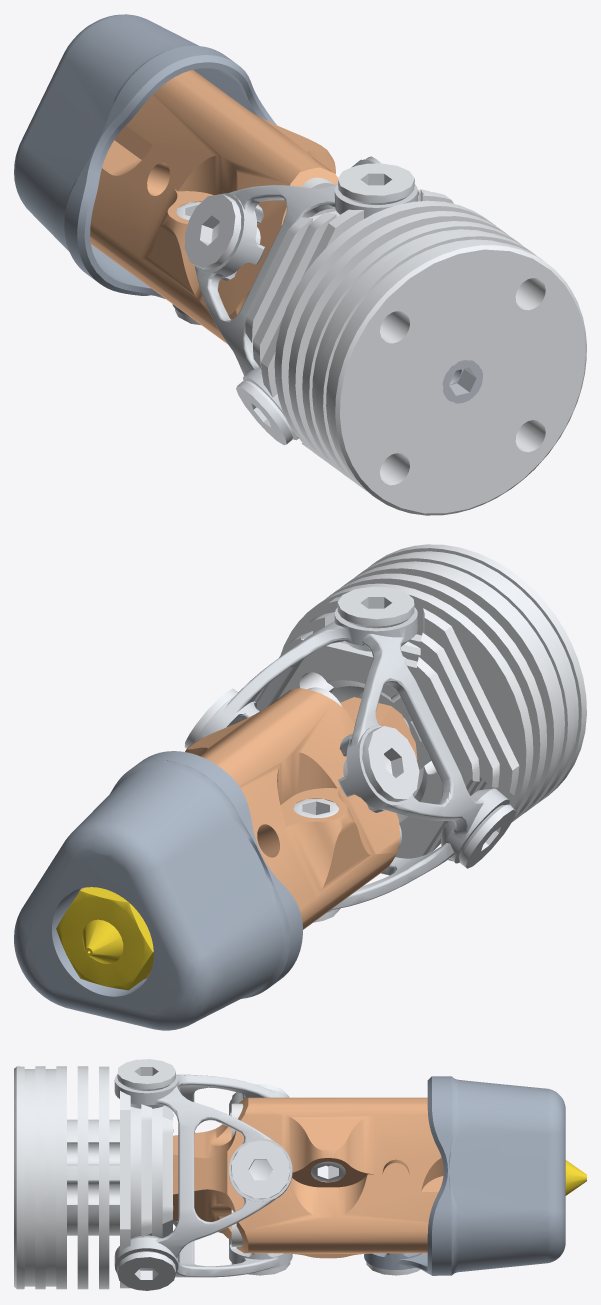
The picture shows the model from 3 angles, top to bottom: view 1: azimuth 30°, elevation 25°; view 2: azimuth 150°, elevation 25°; view 3: azimuth 270°, elevation 25°; orthographic projection. The views are drawn at different scales.
Parts seen in each view (by area): view 1: heatsink, cucrzr_hotblock, ti_shield_bucket, slm_ti_crown, screw_3, screw_2, screw_0, ti_heatbreak; view 2: ti_shield_bucket, heatsink, cucrzr_hotblock, slm_ti_crown, nozzle, screw_3, screw_2, screw_0, screw_8, screw_5; view 3: cucrzr_hotblock, heatsink, ti_shield_bucket, slm_ti_crown, screw_5, screw_4, screw_2, screw_7, nozzle.
Part boxes in pixels (x1,y1,x2,y2): heatsink: (245, 189, 586, 515); cucrzr_hotblock: (90, 70, 337, 344); ti_shield_bucket: (14, 14, 276, 315); slm_ti_crown: (194, 159, 417, 440); screw_3: (184, 194, 260, 269); screw_2: (338, 163, 414, 204); screw_0: (236, 381, 293, 445); ti_heatbreak: (442, 360, 482, 403); ti_shield_bucket: (14, 751, 302, 1030); heatsink: (254, 544, 586, 861); cucrzr_hotblock: (79, 688, 417, 979); slm_ti_crown: (194, 607, 509, 912); nozzle: (56, 887, 153, 990); screw_3: (343, 726, 419, 801); screw_2: (337, 586, 414, 628); screw_0: (445, 804, 516, 868); screw_8: (293, 799, 338, 817); screw_5: (184, 688, 238, 748); cucrzr_hotblock: (173, 1097, 443, 1258); heatsink: (14, 1066, 173, 1289); ti_shield_bucket: (364, 1076, 565, 1275); slm_ti_crown: (114, 1074, 292, 1277); screw_5: (231, 1140, 289, 1199); screw_4: (117, 1251, 175, 1290); screw_2: (117, 1059, 175, 1090); screw_7: (311, 1161, 345, 1182); nozzle: (565, 1160, 586, 1195).
Size of the model in its own units: 0.0219 by 0.0216 by 0.054.
